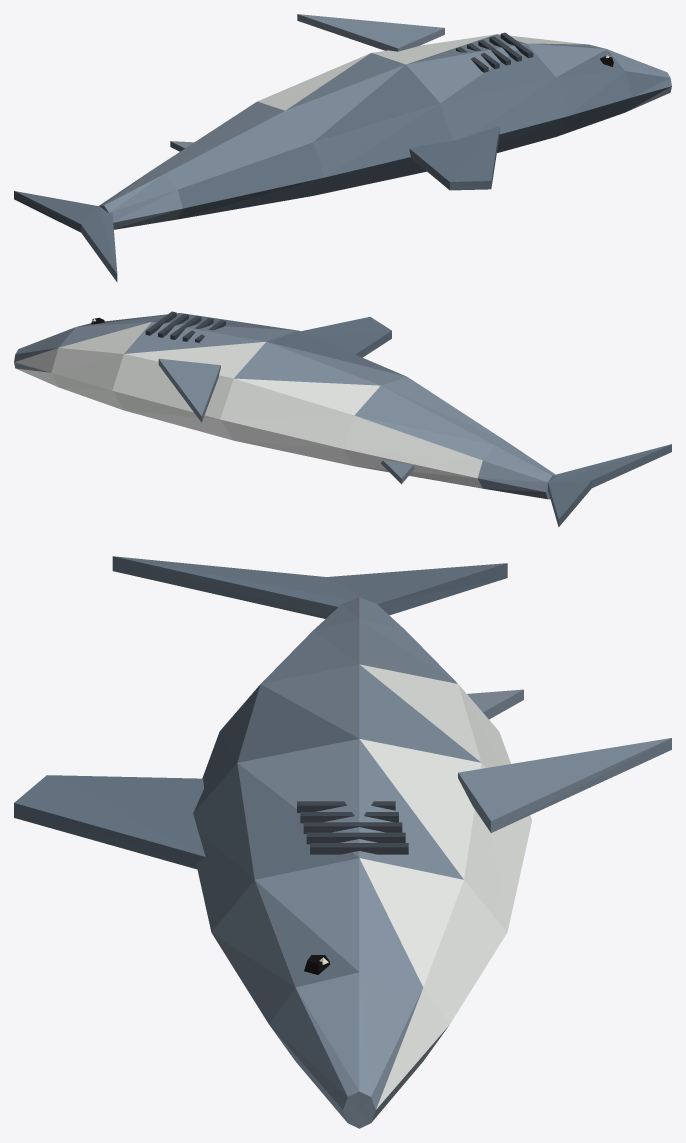
File: raw-shark.obj
The picture shows the model from 3 angles, top to bottom: view 1: azimuth 30°, elevation 25°; view 2: azimuth 150°, elevation 25°; view 3: azimuth 270°, elevation 25°; orthographic projection. The views are drawn at different scales.
Parts seen in each view (by area): view 1: main; view 2: main; view 3: main.
Part boxes in pixels (<box>): main: <box>14,14,671,282</box>; main: <box>14,311,671,526</box>; main: <box>14,556,671,1128</box>.
Bounding box in the file's own units: 154 × 22 × 80.
